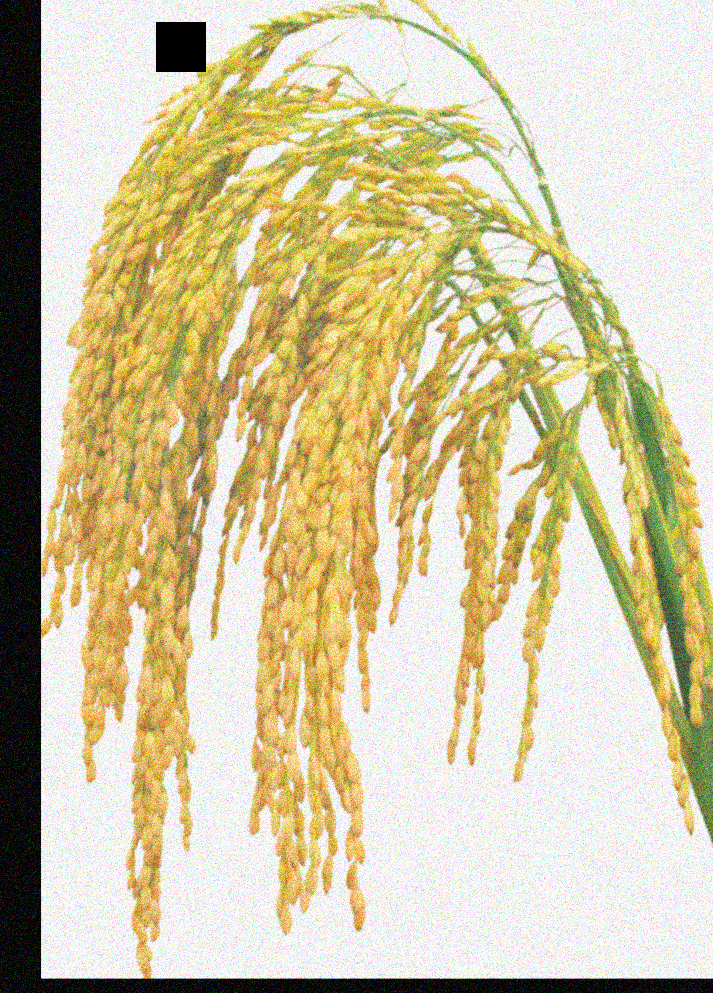rice: (44, 39, 533, 974)
